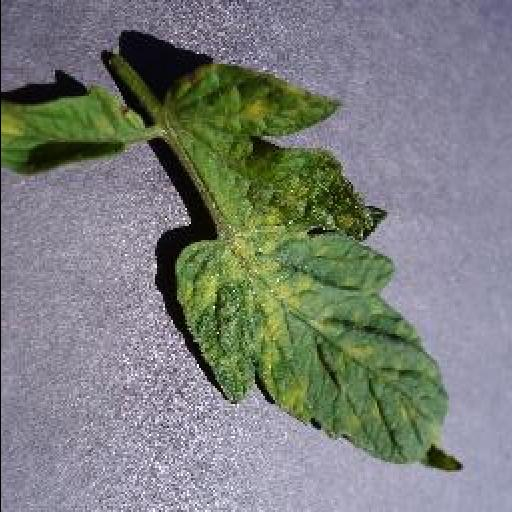disease_tomato: (168, 71, 462, 472)
